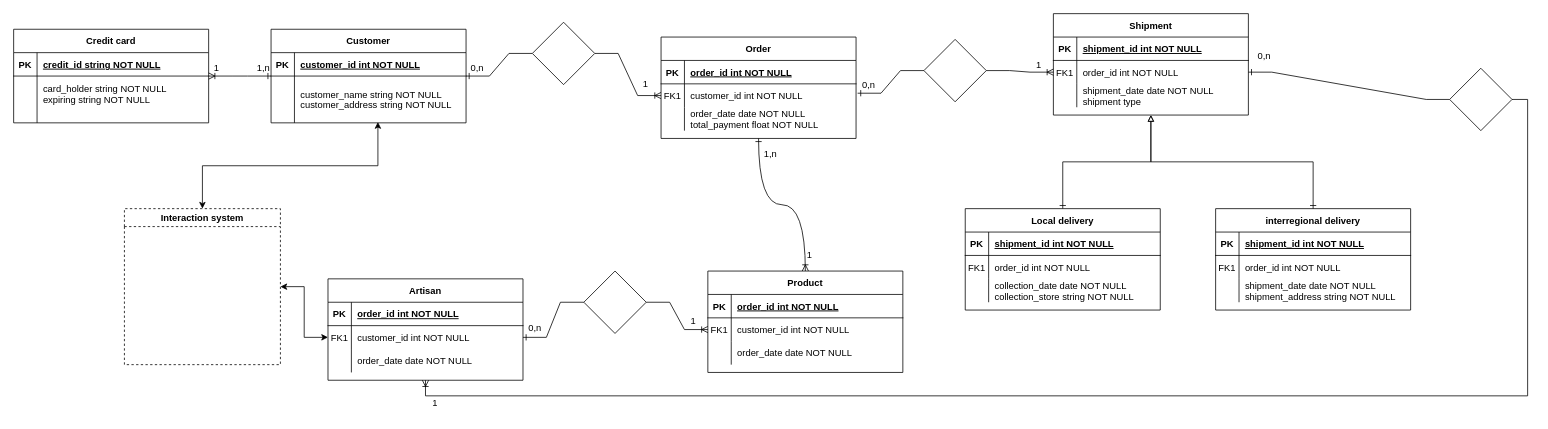
The diagram is 1548 pixels wide and 429 high, and some of its shapes have lost their labels. The shapes that lost their labels are listed below. From the top down, each one's centre as x and y in pixels, then its label:
the point at 563,53: places
the point at 954,70: ready
the point at 1480,99: notify
the point at 614,301: sells
